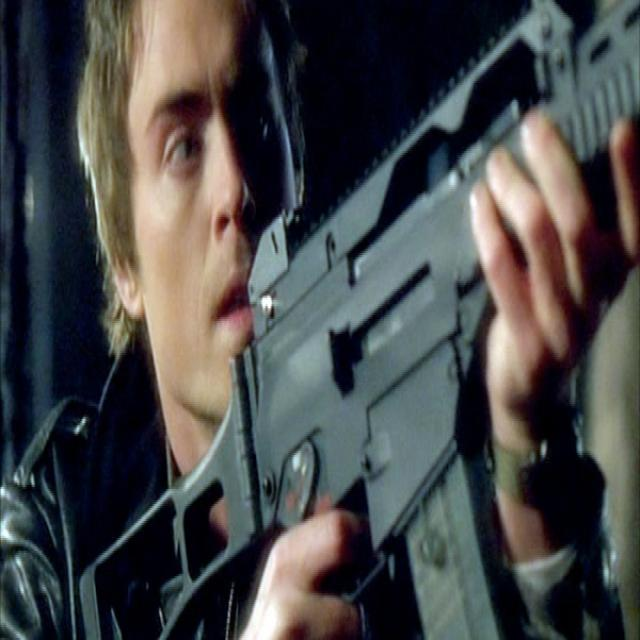rifle: (77, 1, 640, 640)
